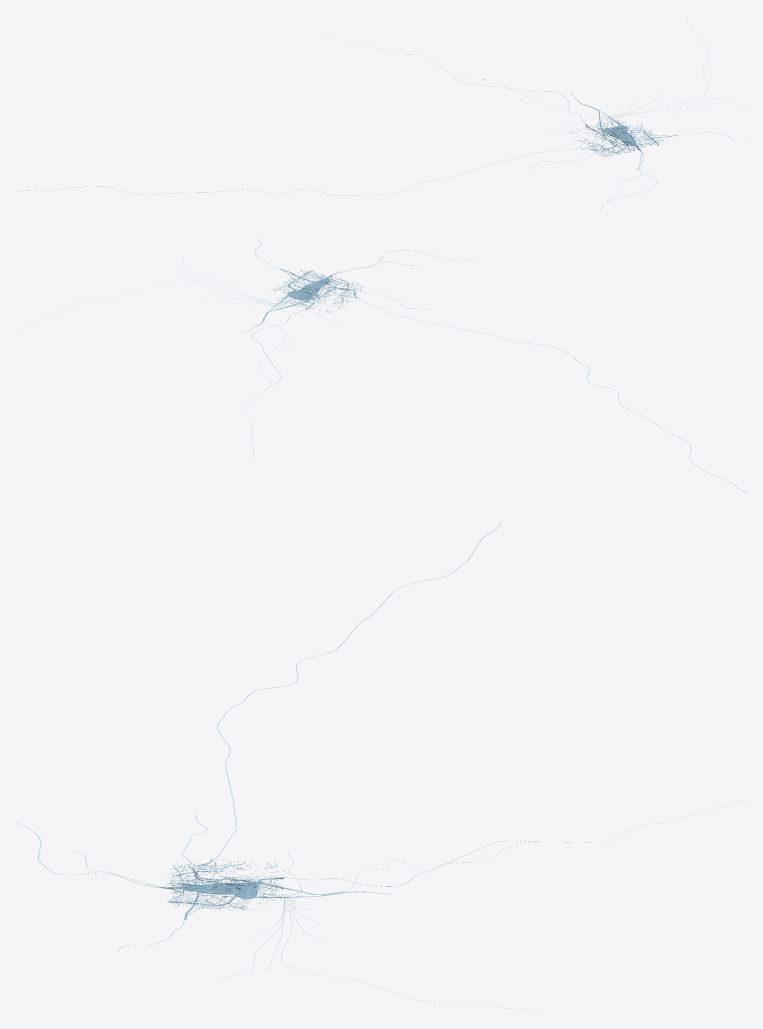
File: roads.glb
3 renders of one model, top to bottom at view 1: azimuth 30°, elevation 25°; view 2: azimuth 150°, elevation 25°; view 3: azimuth 270°, elevation 25°, orthographic. The views are drawn at different scales.
Visible parts, largest first — view 1: roads; view 2: roads; view 3: roads.
Part boxes in pixels (<box>): roads: <box>15,16,747,209</box>; roads: <box>32,239,747,493</box>; roads: <box>15,522,746,1014</box>.
Bounding box in the file's own units: 27300 × 113 × 17261.
